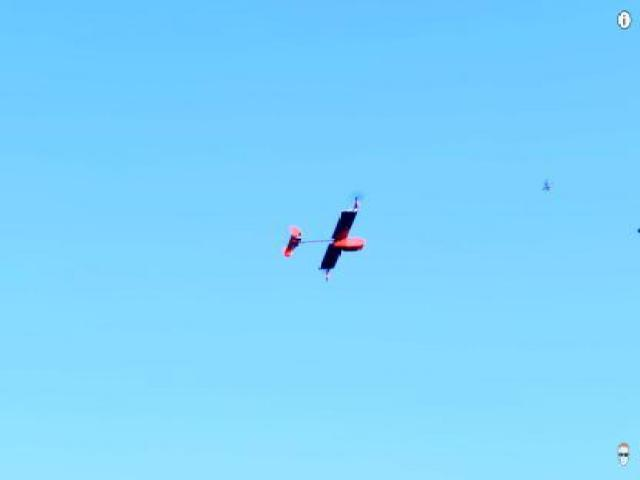uav: (278, 184, 373, 288)
